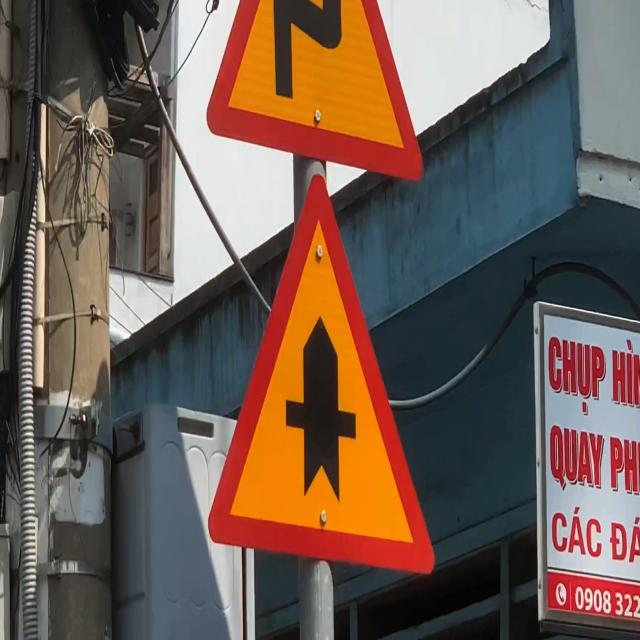Giao voi duong khong uu tien: (200, 169, 437, 585)
Nguy hiem: (201, 0, 427, 196)
